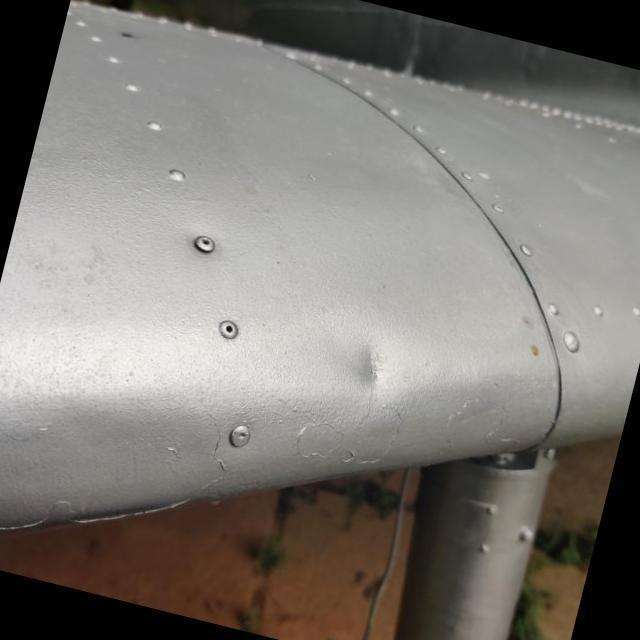Dent: (306, 303, 441, 430)
